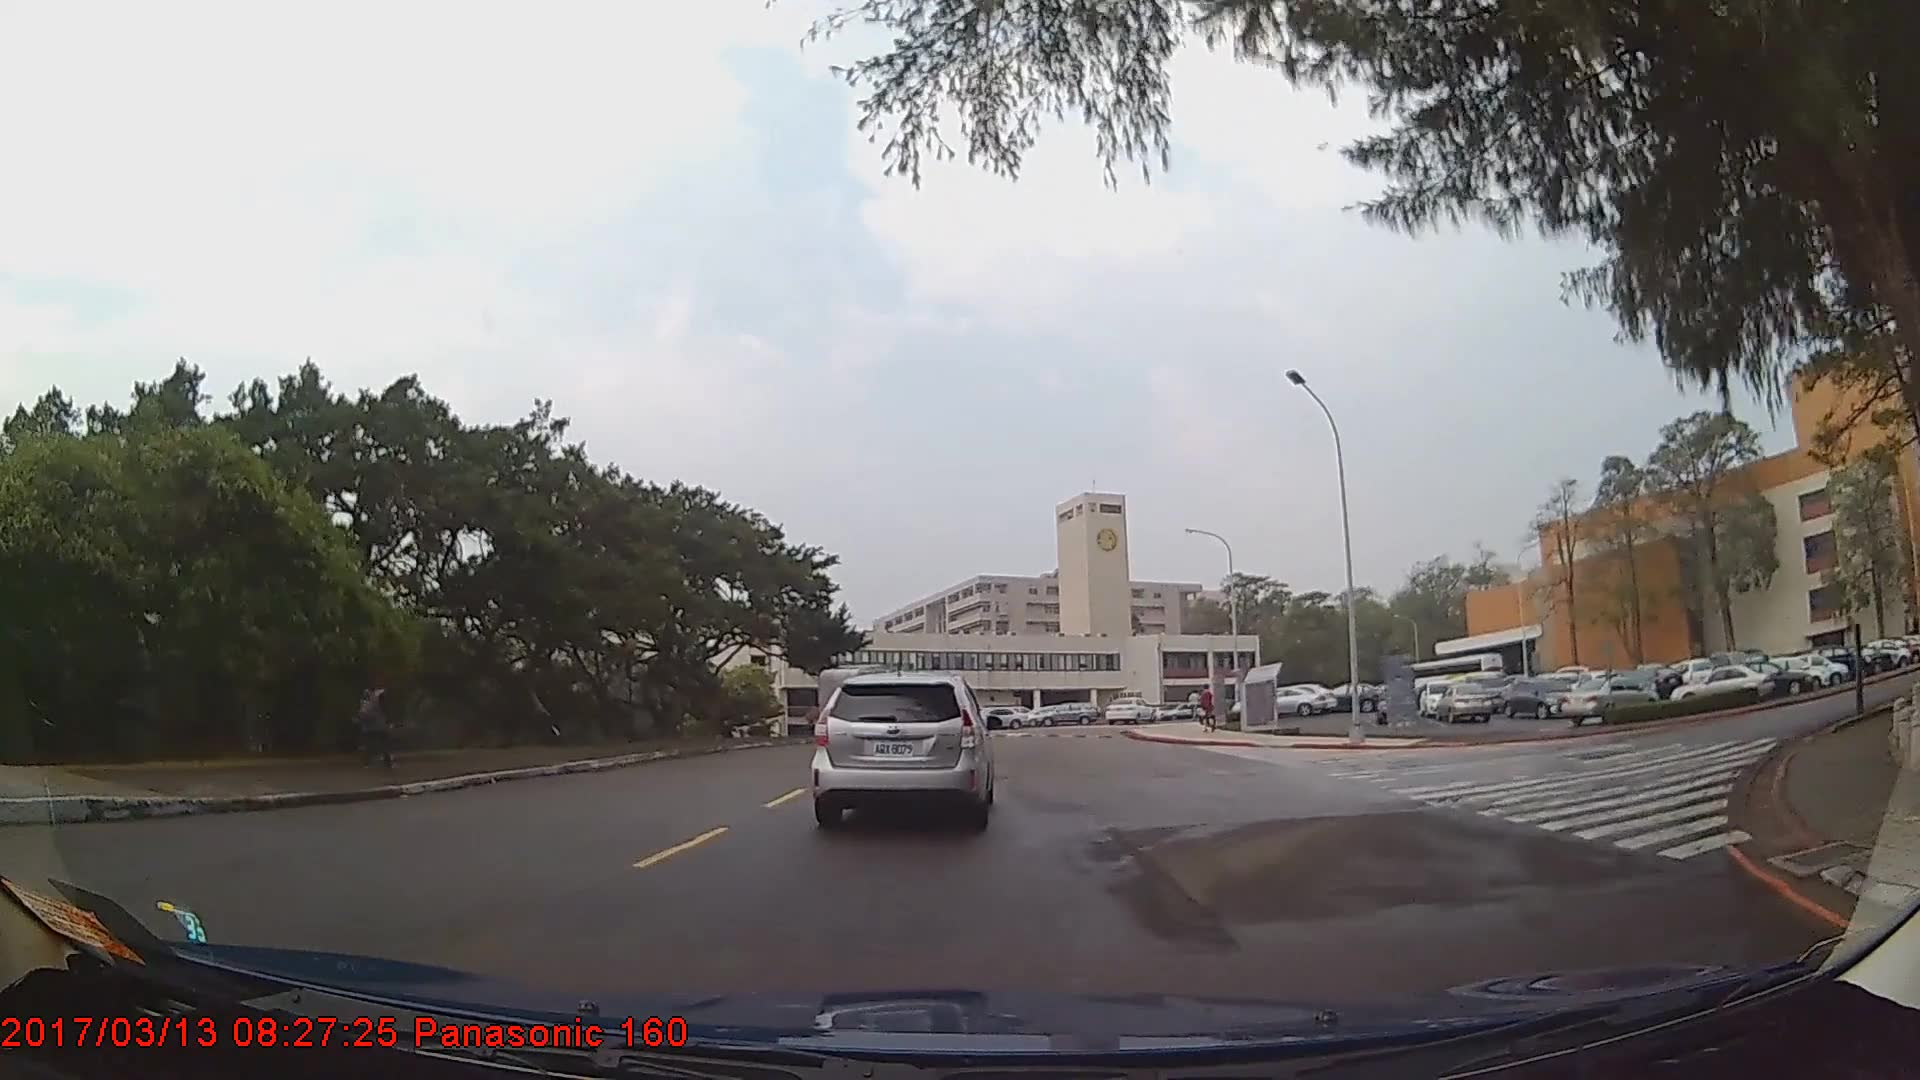pedestrian: (352, 666, 400, 771), (1198, 683, 1218, 733)
vehicle: (815, 672, 990, 827), (1560, 673, 1658, 725), (1671, 663, 1771, 711), (1723, 657, 1815, 698), (1502, 675, 1578, 718), (1244, 679, 1327, 713), (1435, 676, 1495, 721), (1036, 699, 1097, 725), (1102, 693, 1152, 725), (971, 704, 1029, 727)
